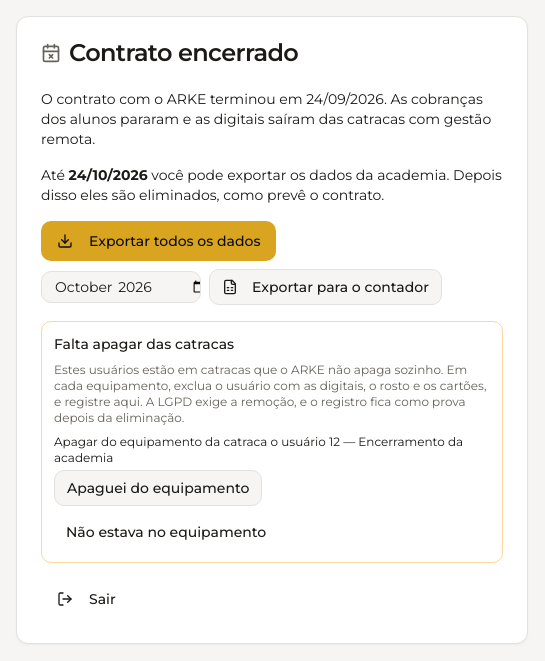
Test case: EncerramentoGate › depois do término, a gestão fecha com desfecho a remoção que ficou à mão
expect the text "Falta apagar das catracas" is shown: met, box x1=54 y1=335 x2=234 y2=353
expect the text "usuário 12" is shown: met, box x1=54 y1=434 x2=463 y2=465
Step 1. Click the button "Apaguei do equipamento" → coordinates (158, 488), box x1=54 y1=470 x2=262 y2=506
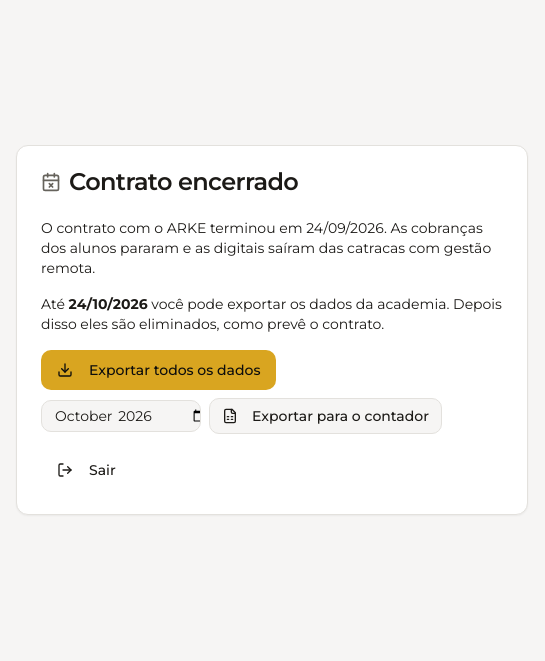
expect the text "Falta apagar das catracas" is gone: met
